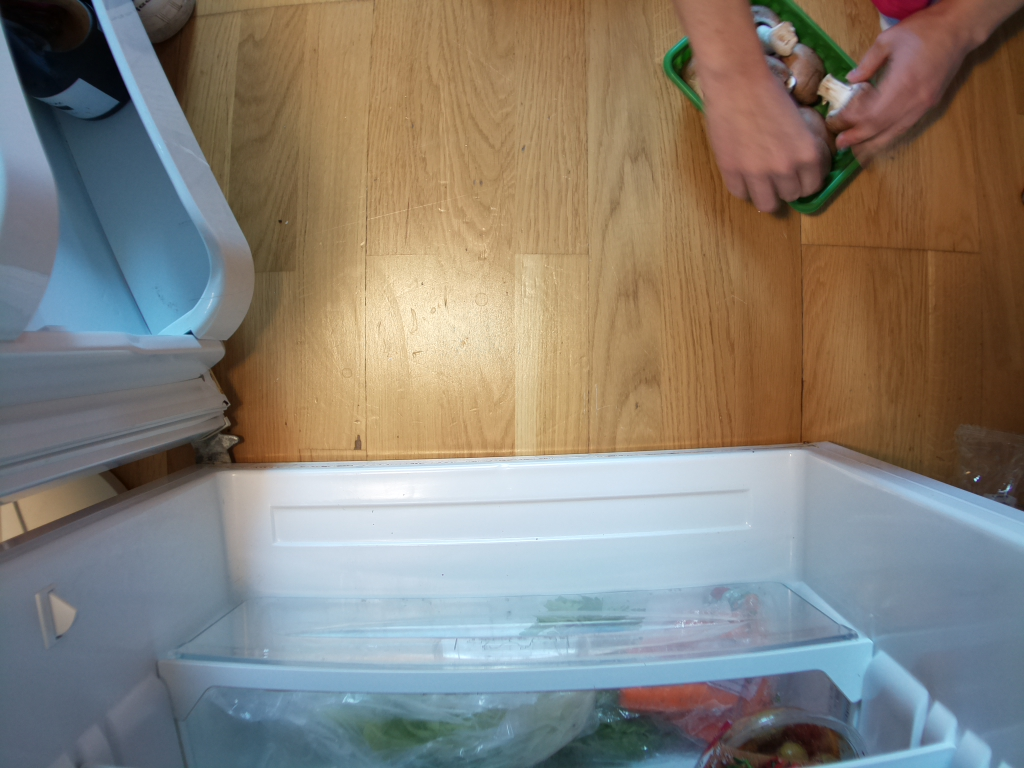mushrooms: (669, 9, 897, 209)
